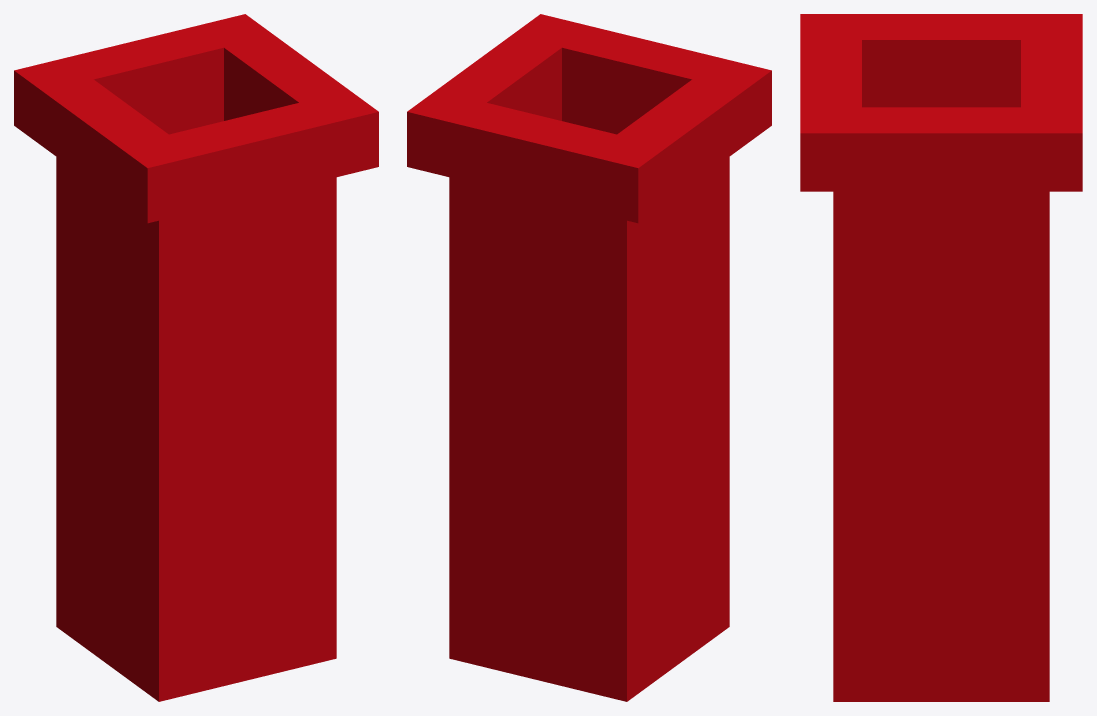
File: chimney_top.fbx
3 renders of one model, left to right at view 1: azimuth 30°, elevation 25°; view 2: azimuth 150°, elevation 25°; view 3: azimuth 270°, elevation 25°, orthographic. The views are drawn at different scales.
Parts seen in each view (by area): view 1: Cube; view 2: Cube; view 3: Cube.
Boxes of the visible parts, x1,y1,x2,y2 form: Cube: (14, 14, 378, 701); Cube: (407, 14, 771, 701); Cube: (800, 14, 1082, 701).
Size of the model in its own units: 1.17 by 2.66 by 1.17.
